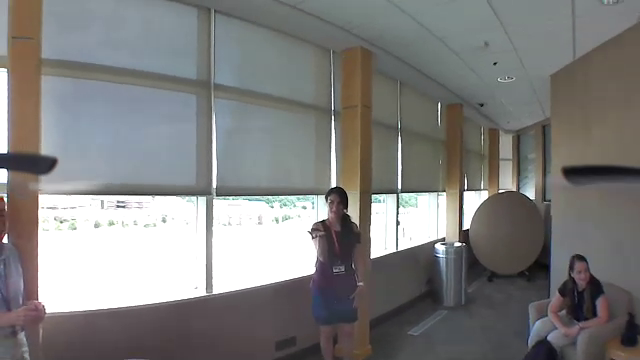land: (304, 226, 327, 239)
